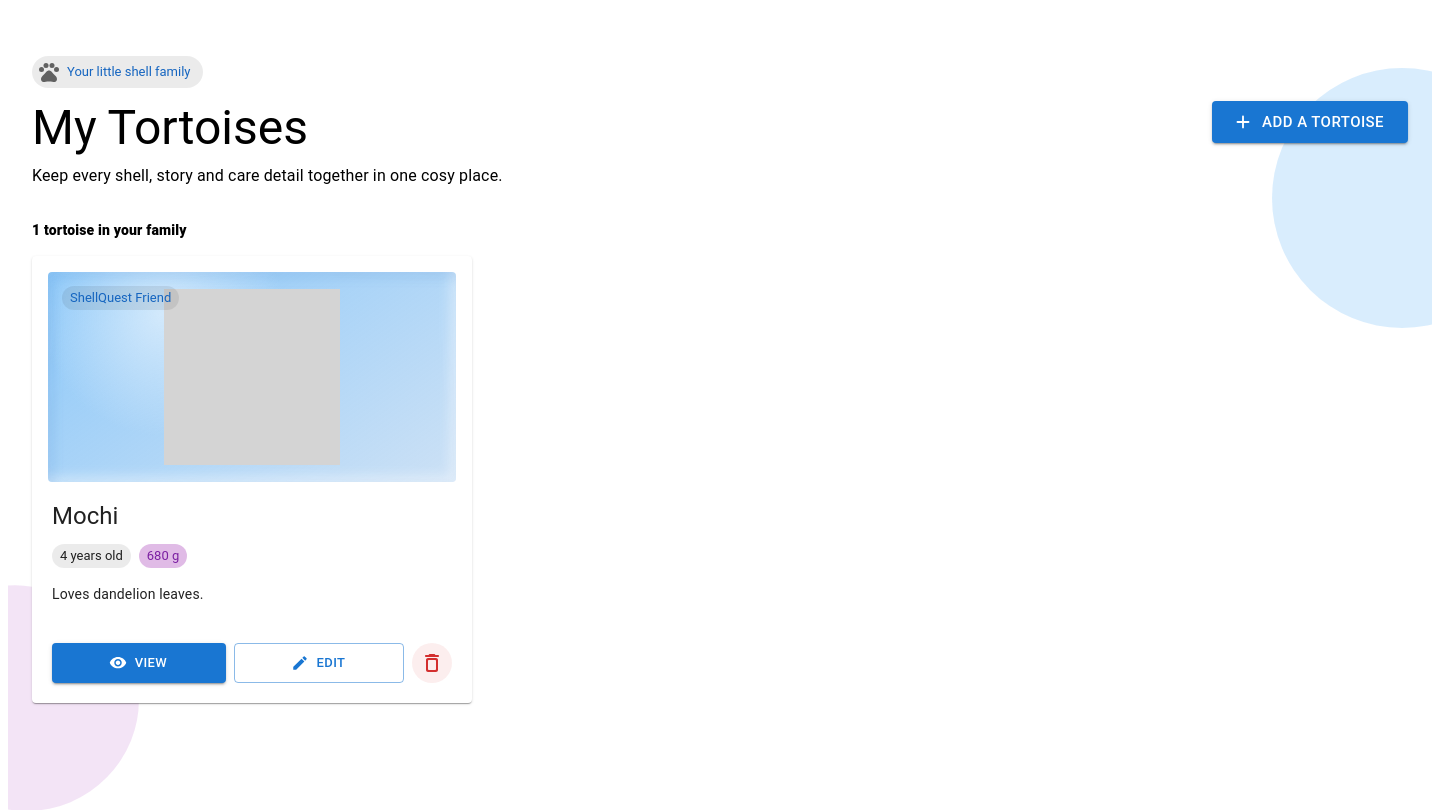
Test: MyTortoisesPage › opens a confirmation dialog before deletion
expect the heading "Mochi" is shown: met, box [52,502,118,530]
What coordinates should you click on to do the following:
click the button named "Delete Mochi"
I would click on:
 (432, 663)
Its box is [412,643,452,683].
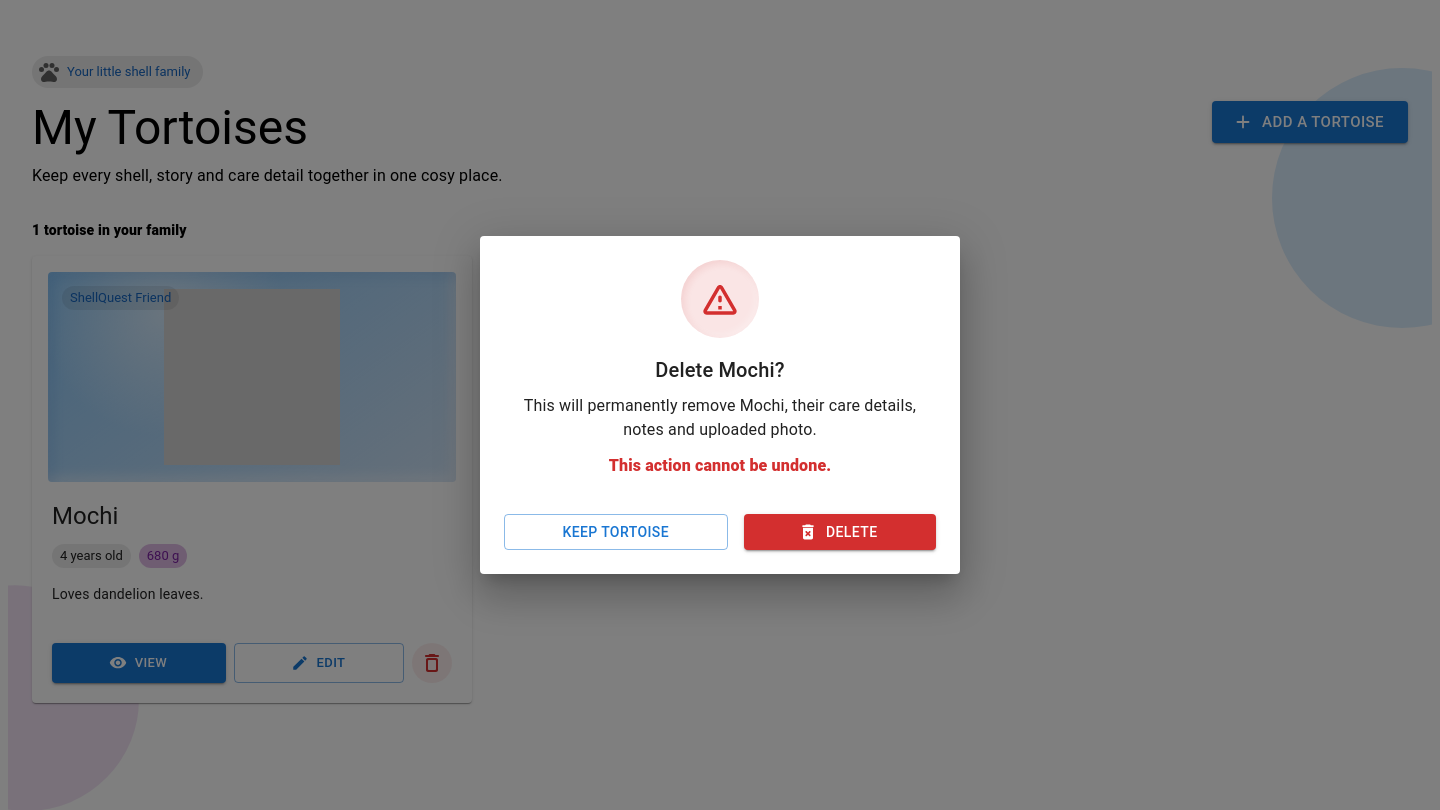
expect the dialog is shown: met, box [480,236,960,574]
expect the heading "Delete Mochi?" is shown: met, box [655,260,785,382]
expect the text "This action cannot be undone." is shown: met, box [609,456,831,475]
